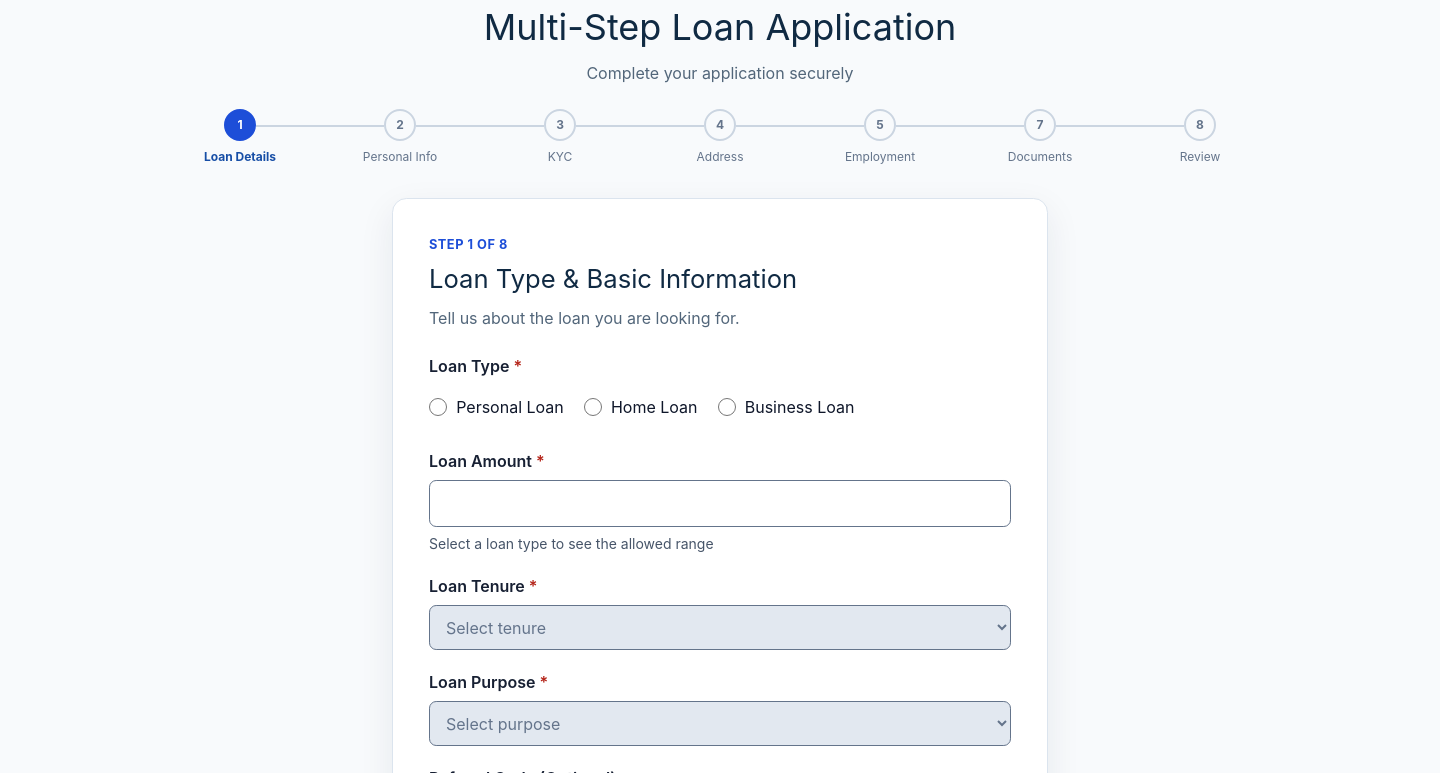
Test case: Step 2 personal information flow › renders after completing Step 1 and marks Step 1 complete
The width and height of the screenshot is (1440, 773).
Click the radio button labelled "Personal Loan". click: coordinates (438, 407)
box: [429,398,447,416]
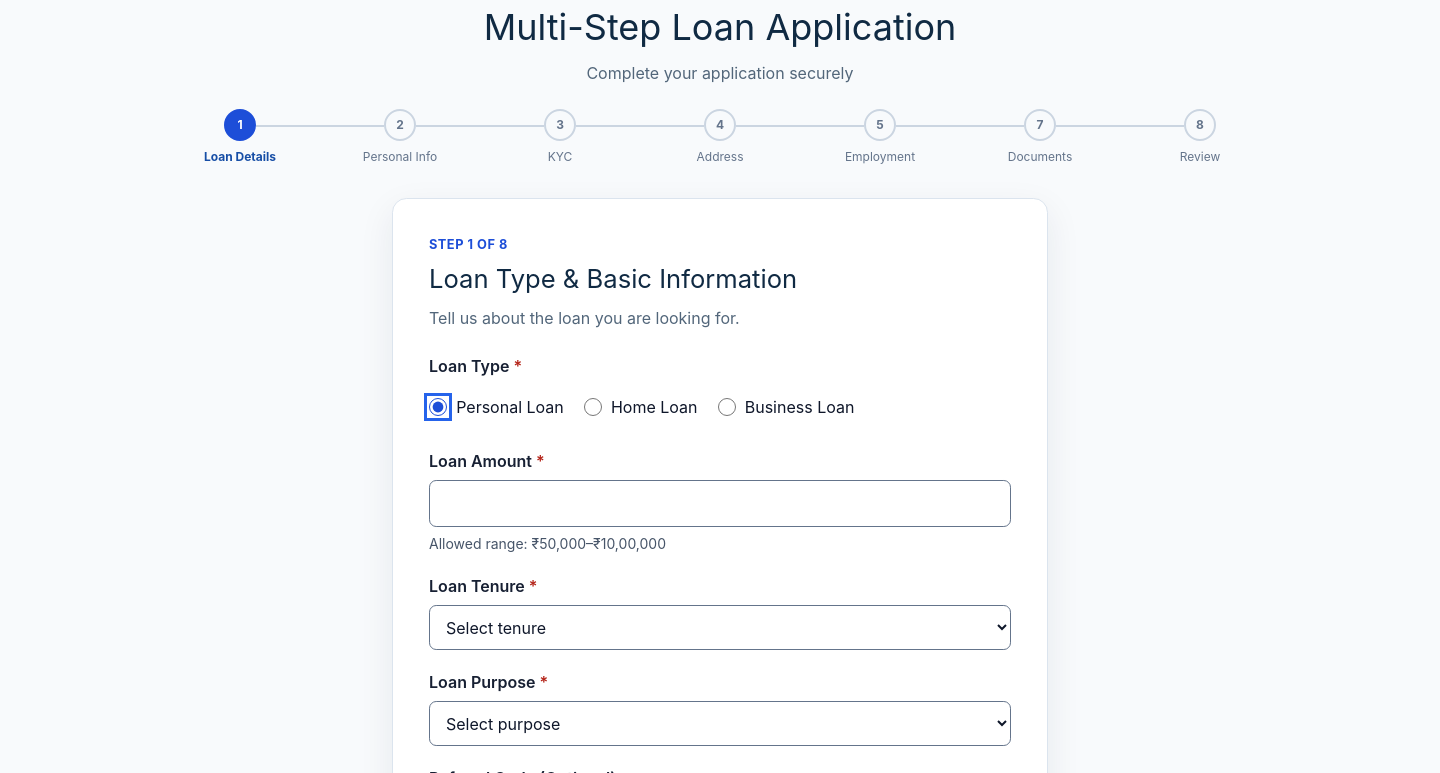
Type "500000" into the field labelled "Loan Amount *". click: coordinates (720, 504)
box: [429,480,1011,527]
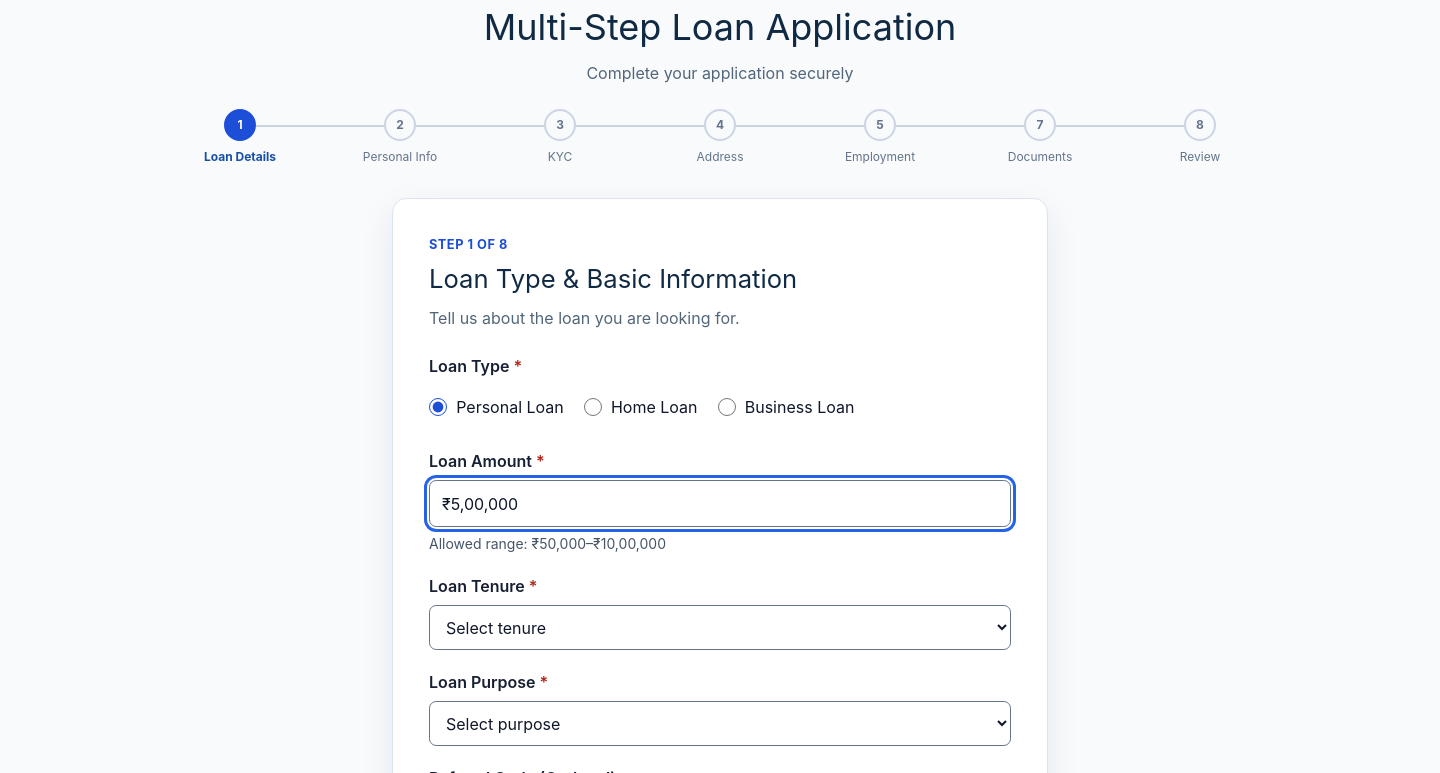
Select "24 months" in the dropdown labelled "Loan Tenure *". click: coordinates (720, 628)
box: [429,606,1011,650]
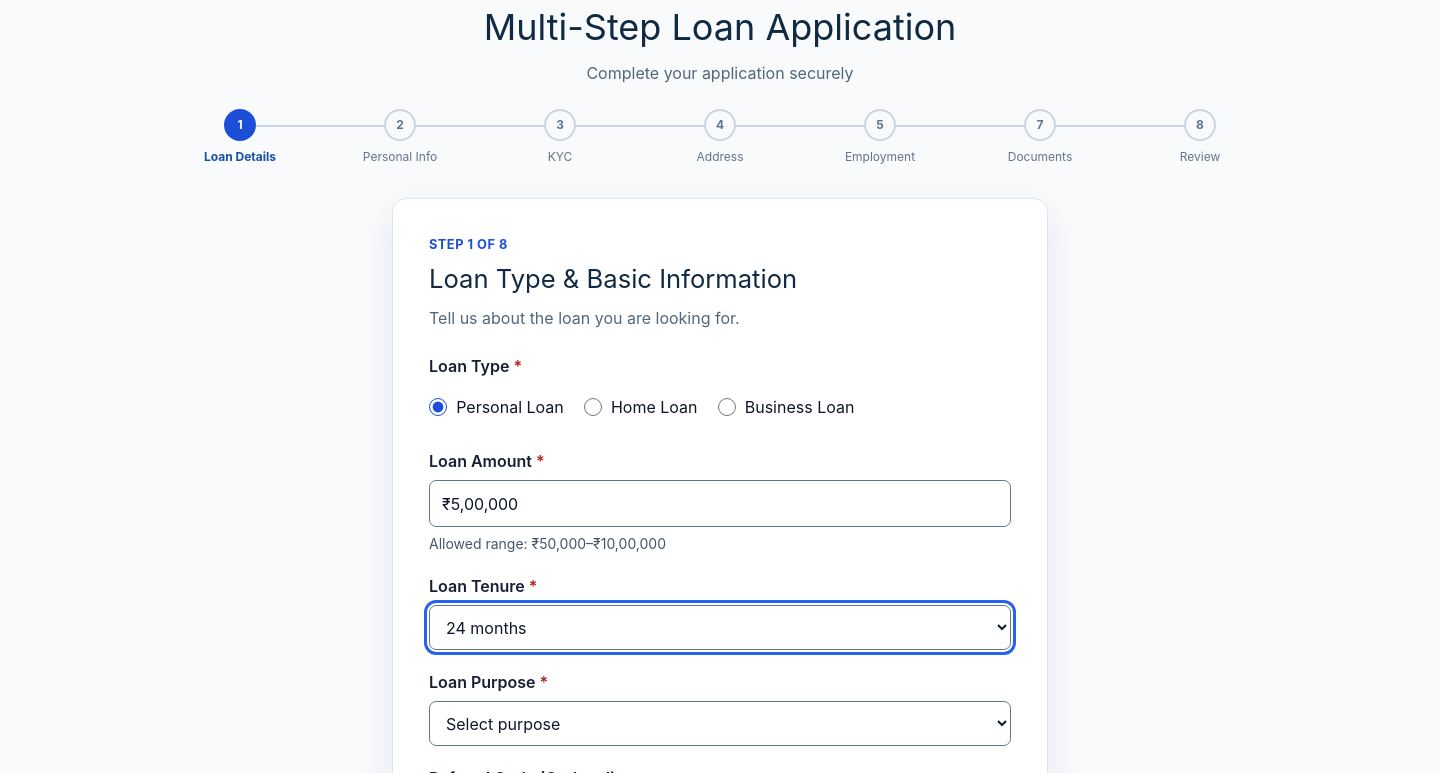
Select "Education" in the dropdown labelled "Loan Purpose *". click: coordinates (720, 724)
box: [429,701,1011,746]
(page scrolled)
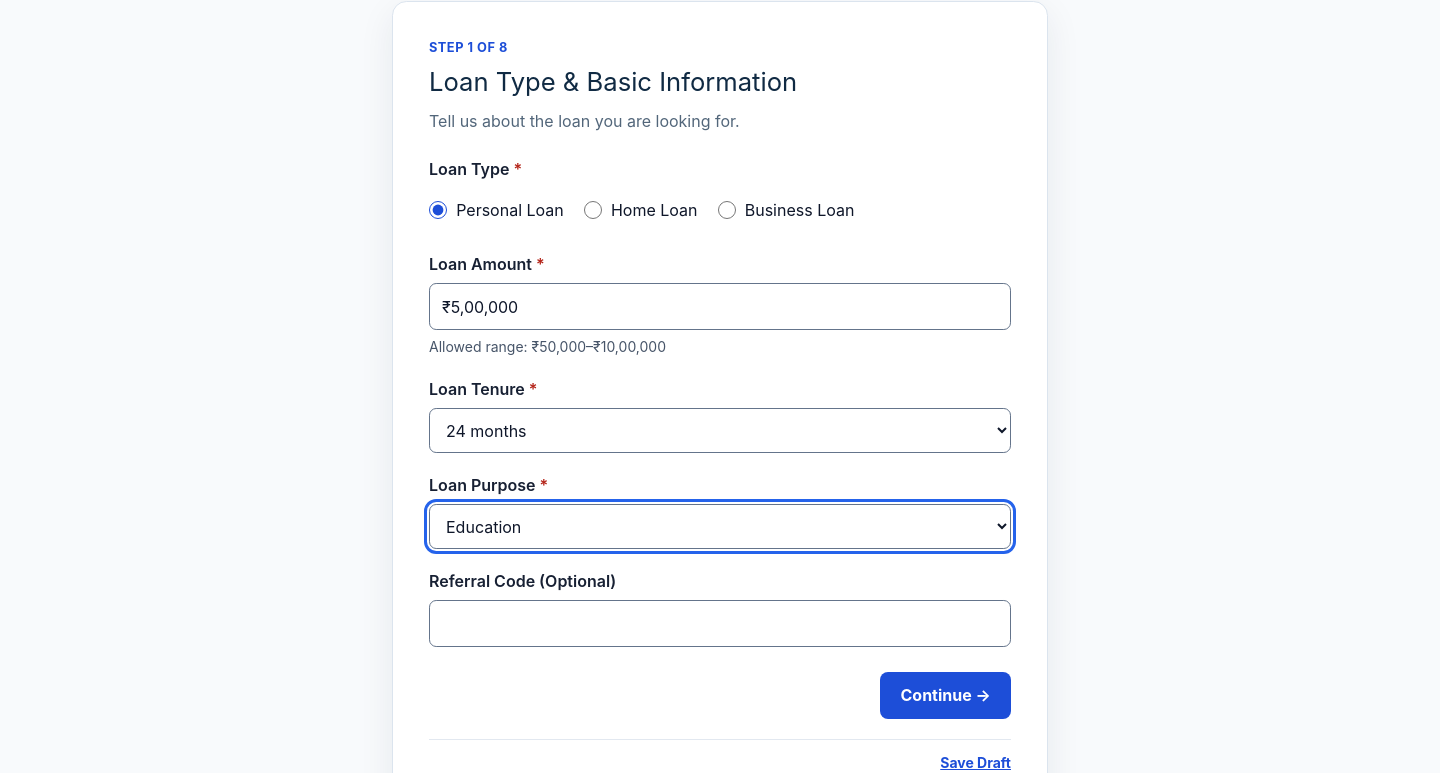
Click the button "Continue →". click: coordinates (946, 695)
box: [880,672,1011,719]
(page scrolled)
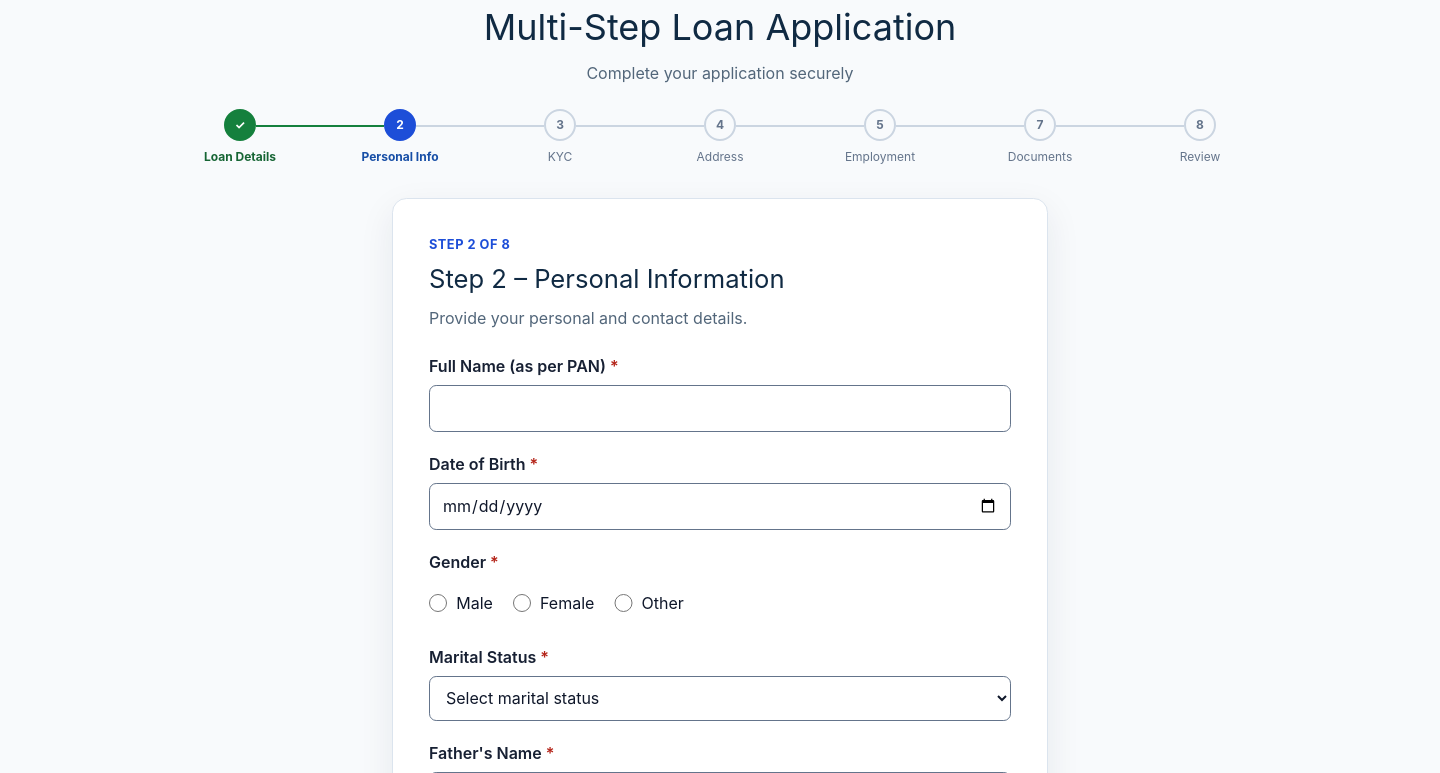
Expected: the heading "Step 2 – Personal Information" is shown, [429,263,785,294]
